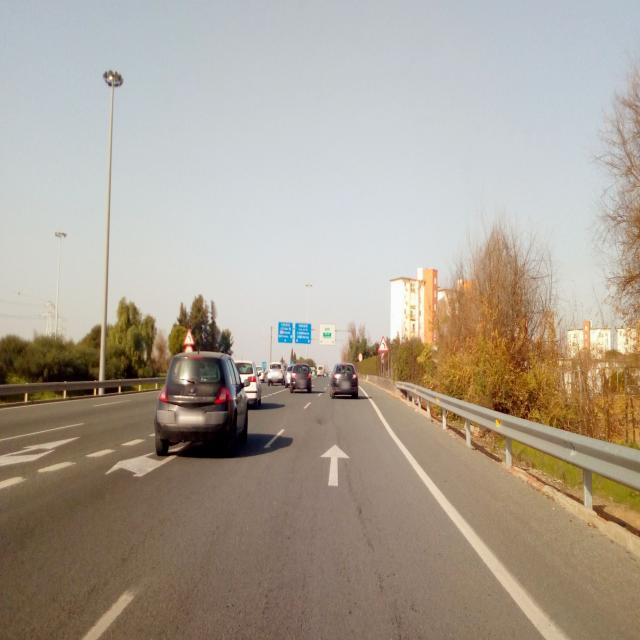car: (154, 349, 249, 458), (233, 360, 262, 409), (329, 362, 359, 399), (290, 364, 312, 394), (267, 361, 285, 386), (284, 364, 295, 386), (316, 364, 326, 377)
